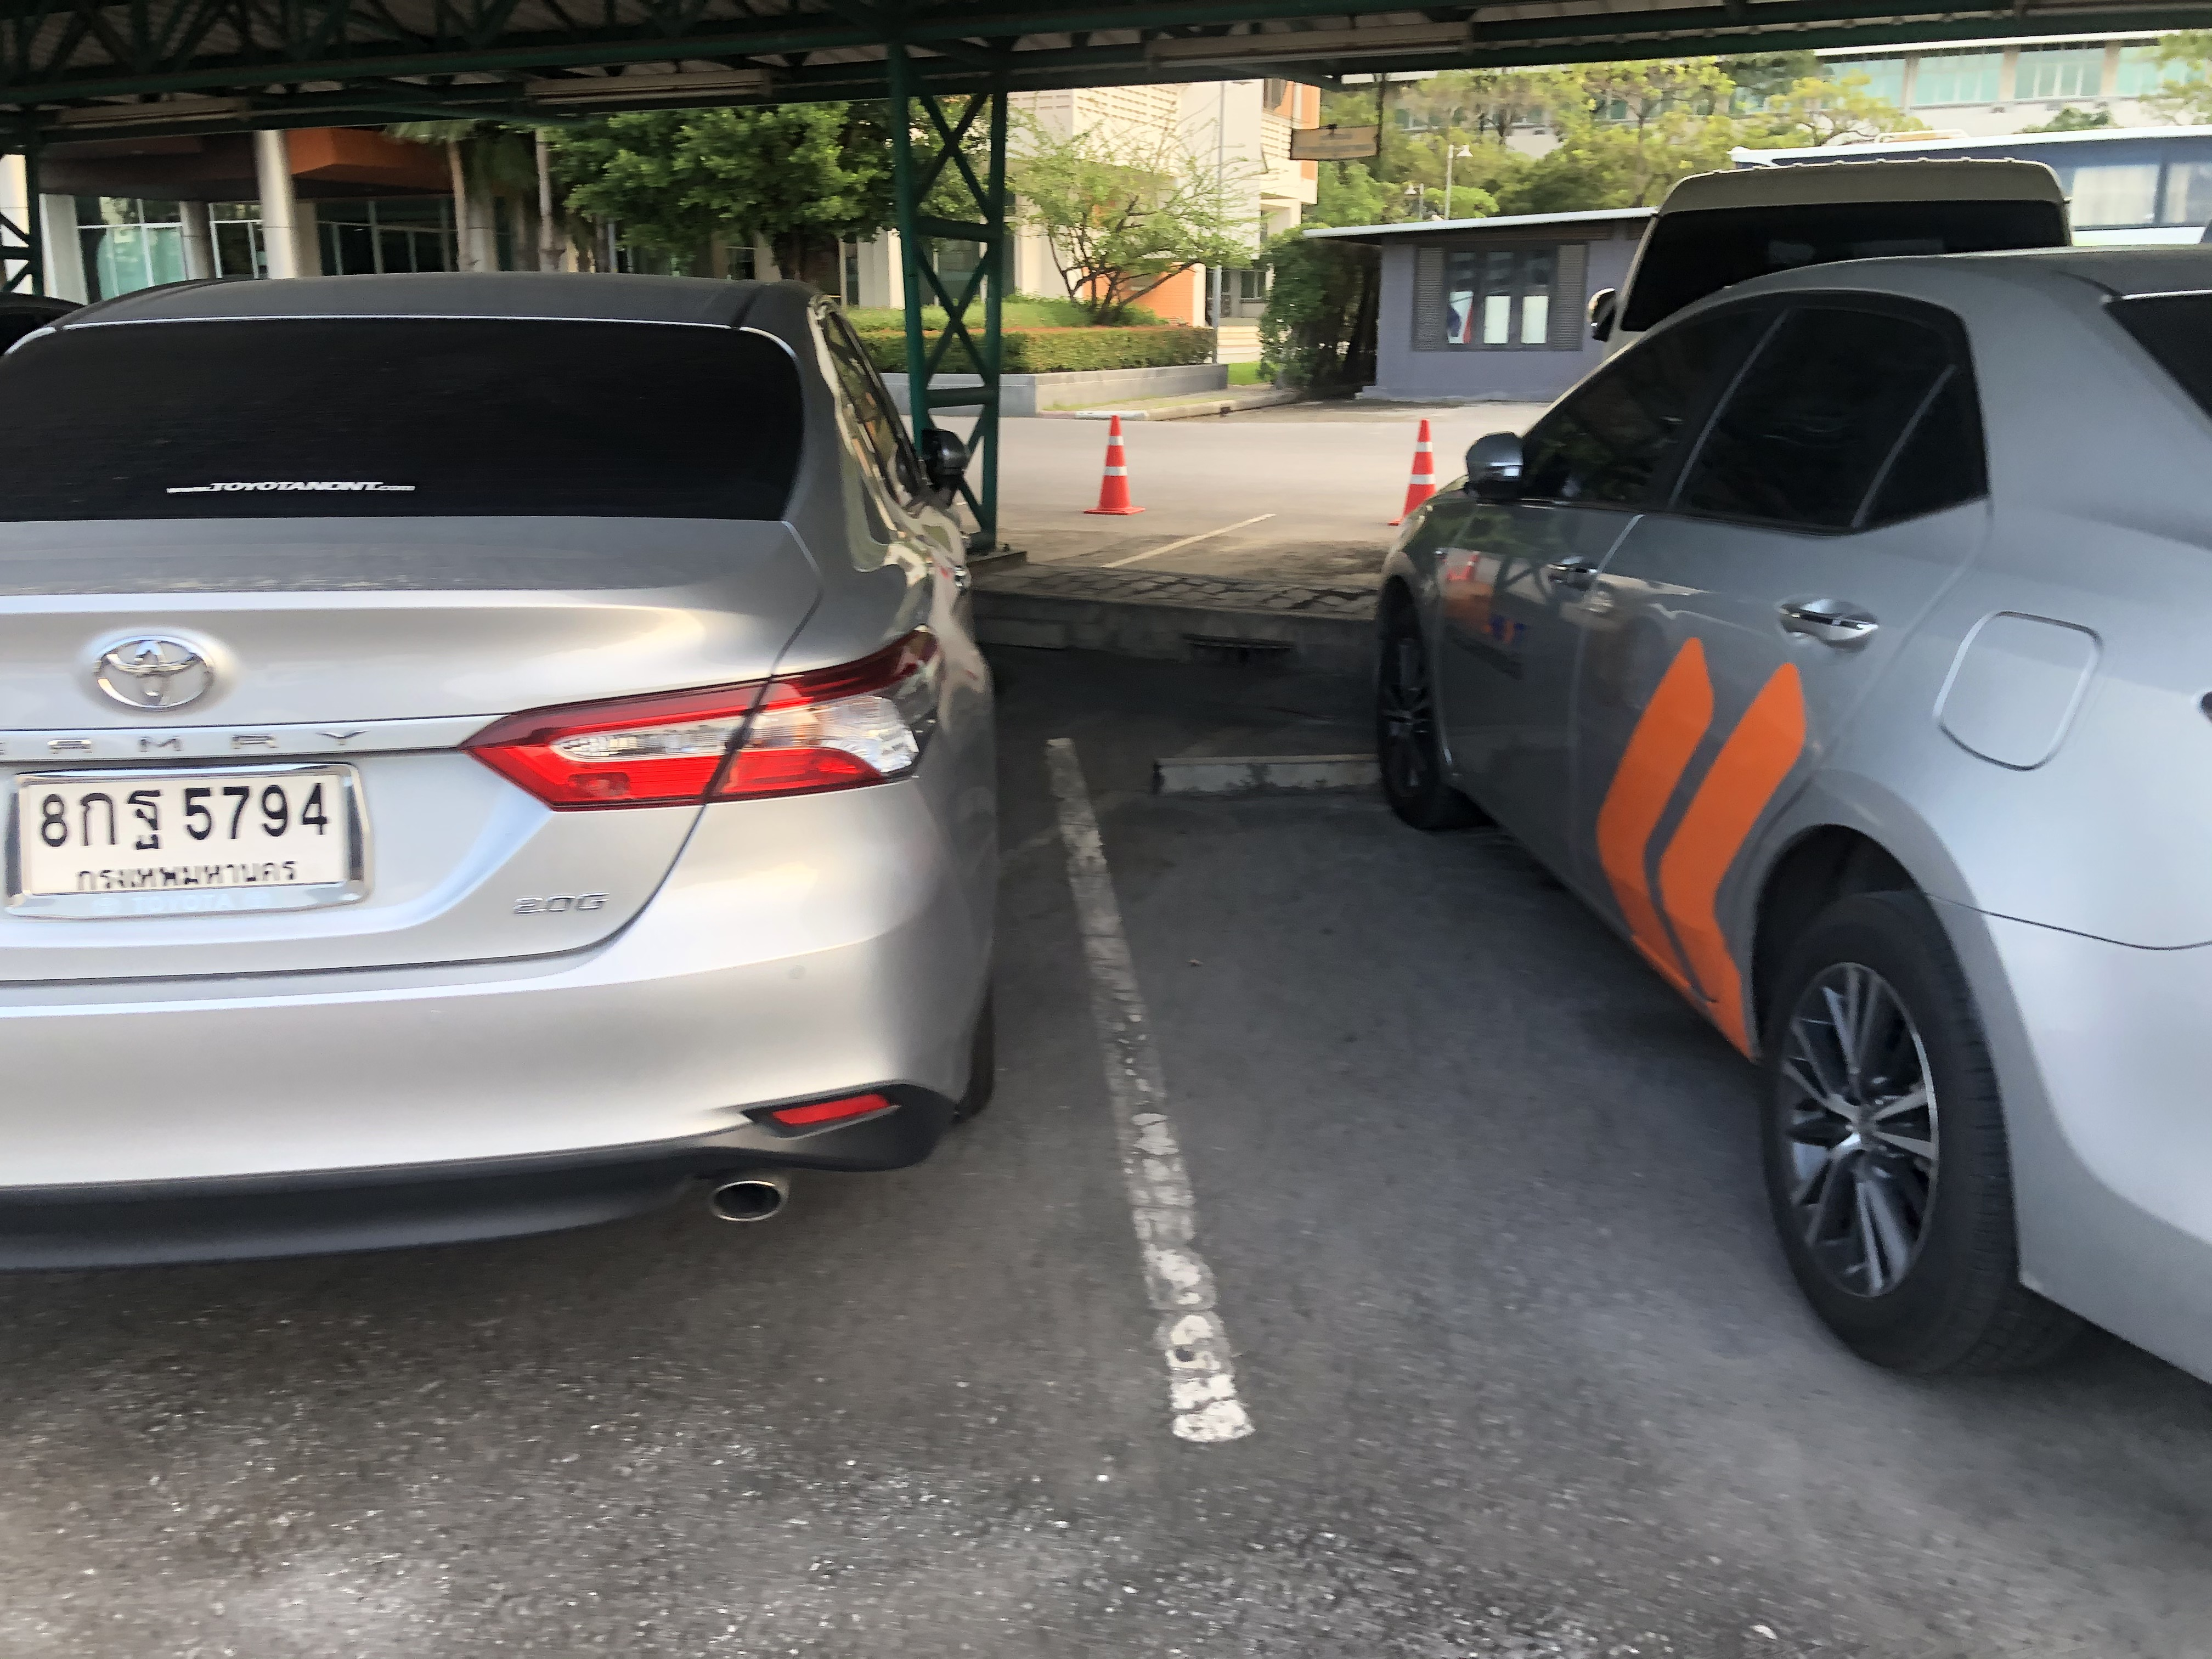in: (24, 788, 352, 885)
out: (2, 760, 378, 927)
